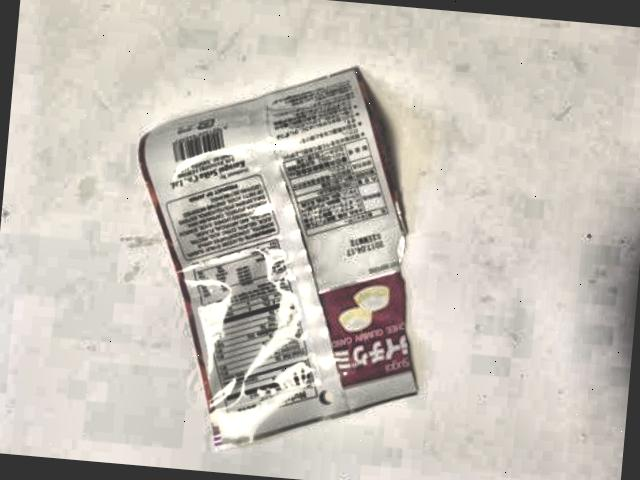Plastic: (106, 36, 464, 472)
